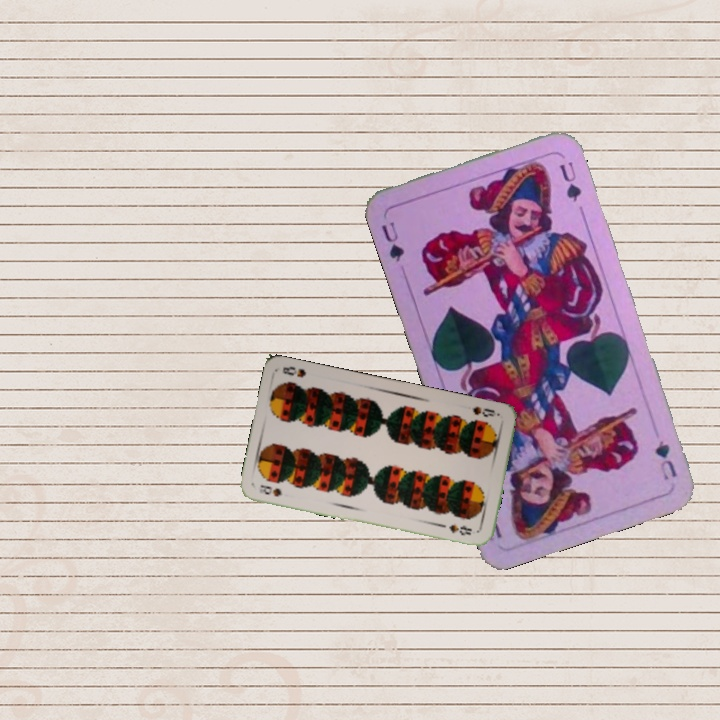GU: (377, 217, 407, 265), (651, 436, 680, 483)
S8: (469, 402, 502, 420), (255, 481, 284, 499)
